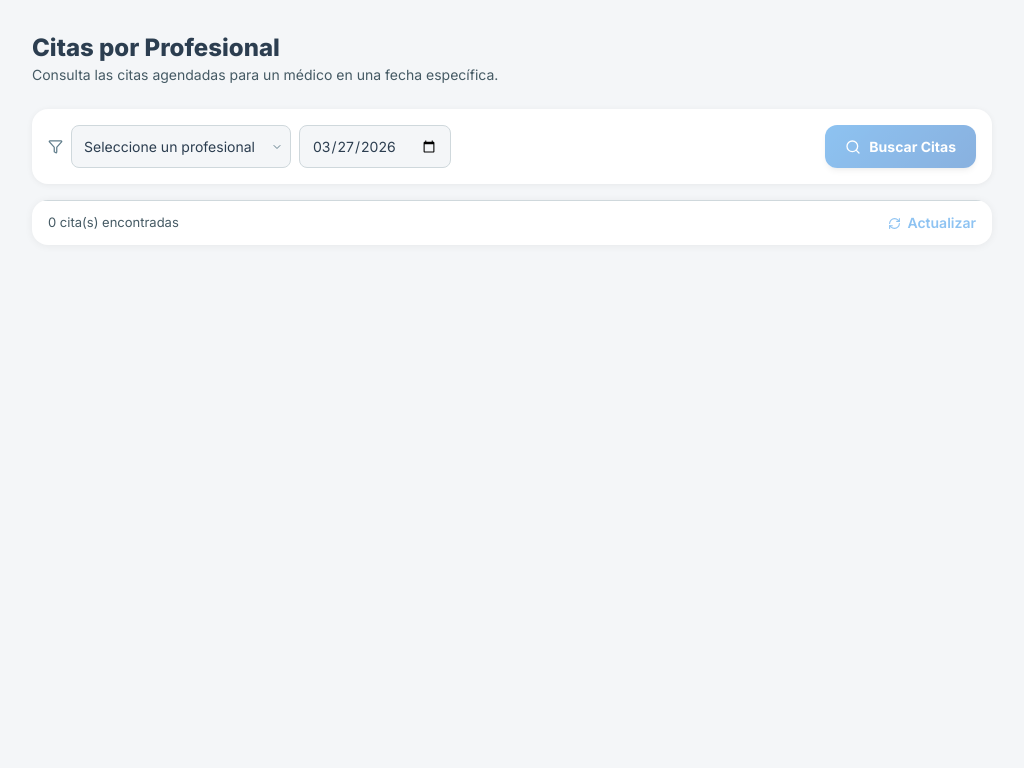
AppointmentsByDoctor — RF1: Listar citas médicas › muestra estado vacío cuando no hay citas para el profesional y fecha
Select "Dr. Andrea Urbano" in the dropdown named "seleccionar profesional": (181, 146) x1=71 y1=125 x2=291 y2=168
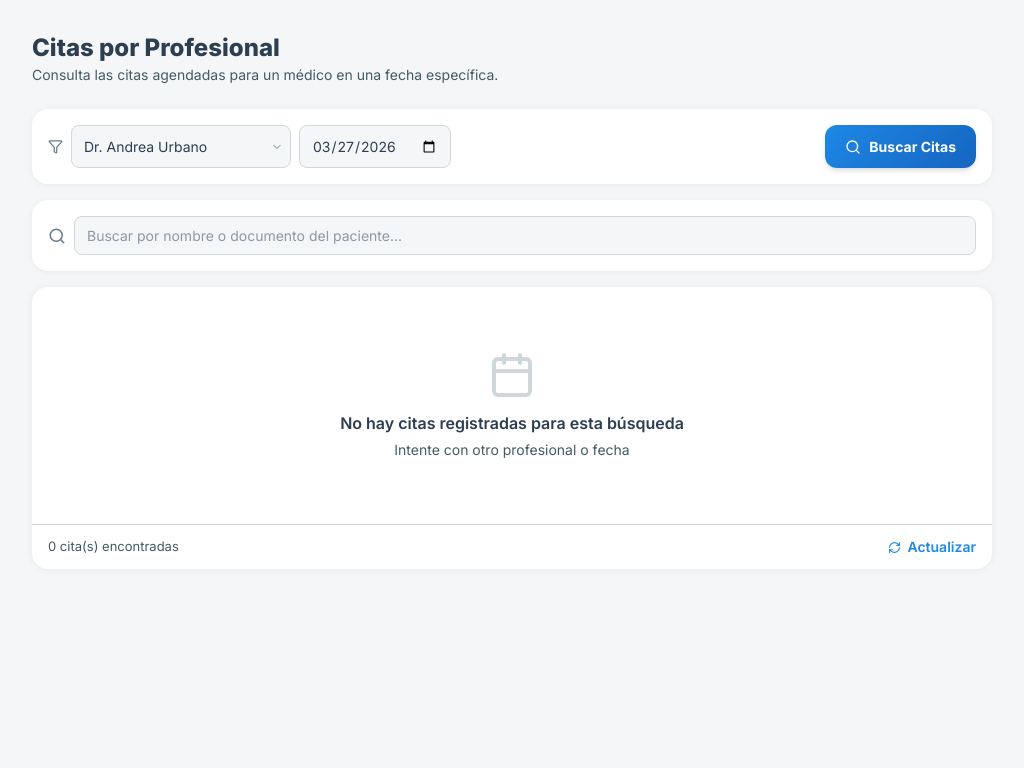
Check: the text "No hay citas registradas para esta búsqueda" is shown, box x1=340 y1=413 x2=684 y2=433
